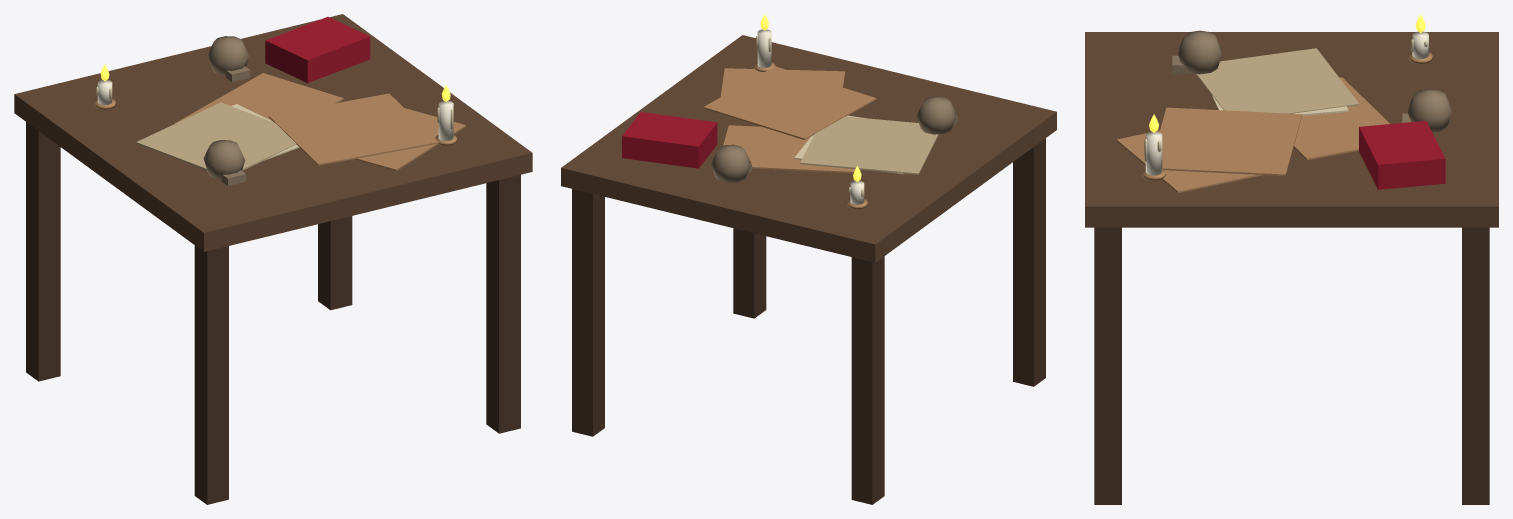
File: map_table.glb
3 views of the same model, side by side, from view 1: azimuth 30°, elevation 25°; view 2: azimuth 150°, elevation 25°; view 3: azimuth 270°, elevation 25° (orthographic). The views are drawn at different scales.
Visible parts, largest first — view 1: map_table; view 2: map_table; view 3: map_table.
Boxes of the visible parts, left/top/right/bottom form: map_table: left=14, top=14, right=532, bottom=504; map_table: left=561, top=14, right=1056, bottom=504; map_table: left=1085, top=14, right=1498, bottom=504.
Size of the model in its own units: 0.9 by 0.878 by 0.9.
